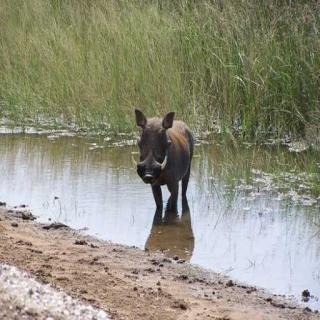Pig: (128, 108, 220, 237)
